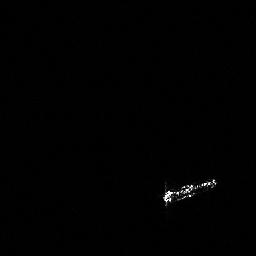ship: (157, 175, 220, 211)
